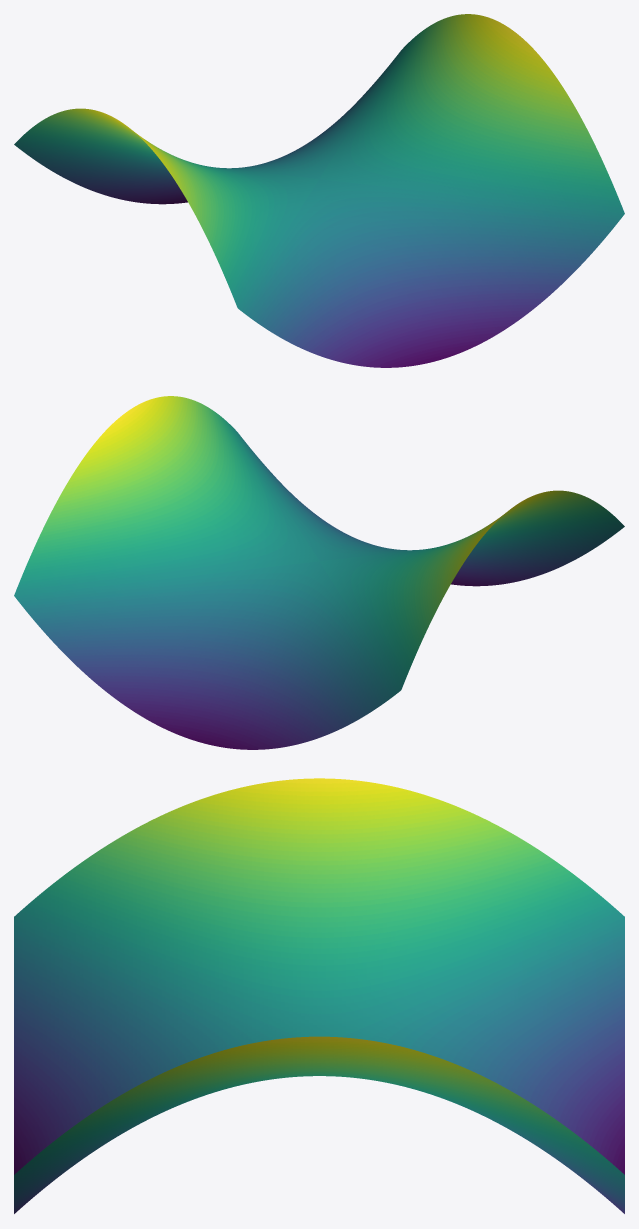
Rendered from sattel.gltf.
3 renders of one model, top to bottom at view 1: azimuth 30°, elevation 25°; view 2: azimuth 150°, elevation 25°; view 3: azimuth 270°, elevation 25°, orthographic. The views are drawn at different scales.
Parts seen in each view (by area): view 1: blue; view 2: blue; view 3: blue.
Boxes of the visible parts, <box> form: blue: <box>14,14,624,367</box>; blue: <box>14,396,624,749</box>; blue: <box>14,778,624,1213</box>.
Size of the model in its own units: 100 by 50 by 100.
1 material, 1 textured.
